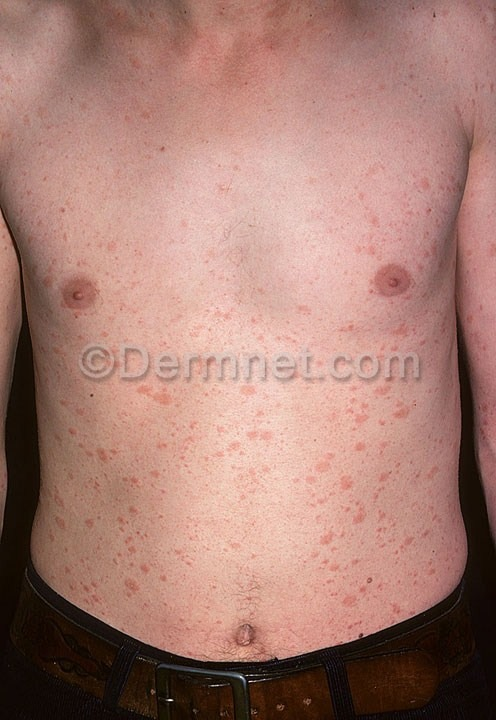Psoriasis: (43, 382, 193, 624), (315, 383, 451, 621), (203, 296, 307, 545), (335, 154, 450, 254), (9, 178, 105, 261)
